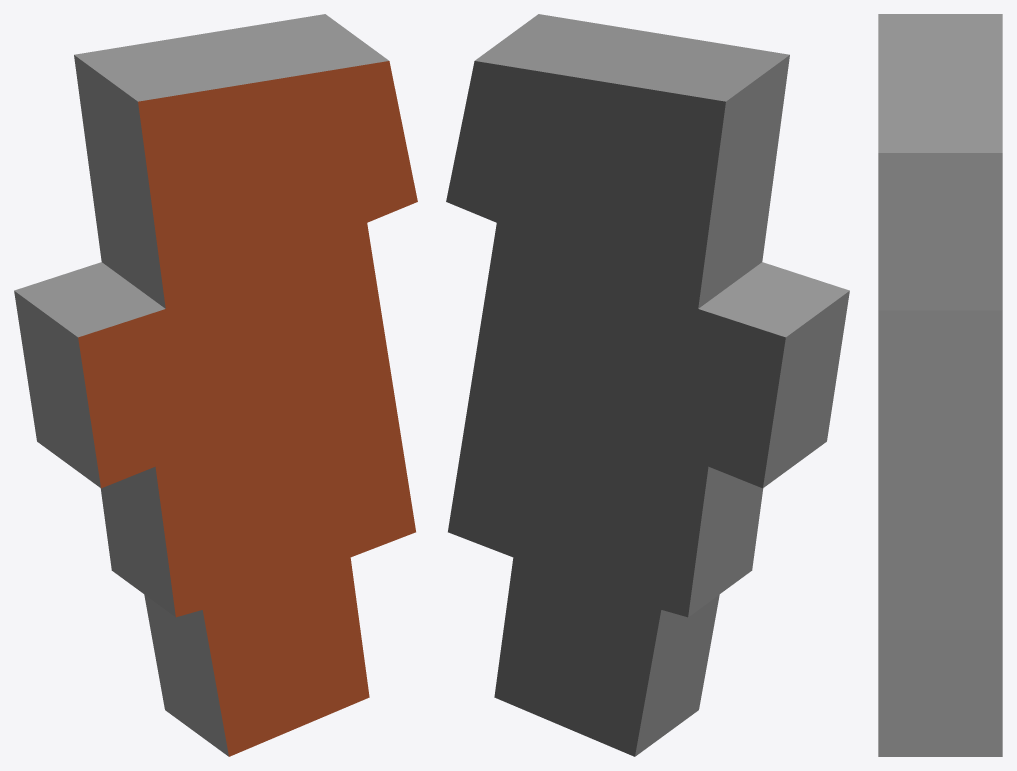
File: construction_2107_assumed_A_Casa_h6m.obj
3 renders of one model, left to right at view 1: azimuth 30°, elevation 25°; view 2: azimuth 150°, elevation 25°; view 3: azimuth 270°, elevation 25°, orthographic. The views are drawn at different scales.
Parts seen in each view (by area): view 1: construction_2107_assumed_A_Casa; view 2: construction_2107_assumed_A_Casa; view 3: construction_2107_assumed_A_Casa.
Boxes of the visible parts, x1,y1,x2,y2 form: construction_2107_assumed_A_Casa: (14,14,417,756); construction_2107_assumed_A_Casa: (446,14,849,756); construction_2107_assumed_A_Casa: (878,14,1002,756).
Size of the model in its own units: 18.38 by 35.01 by 6.
